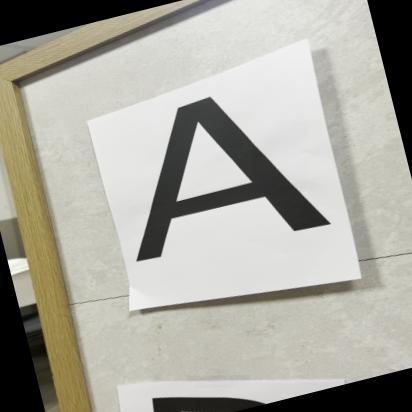seat: (87, 56, 351, 294)
